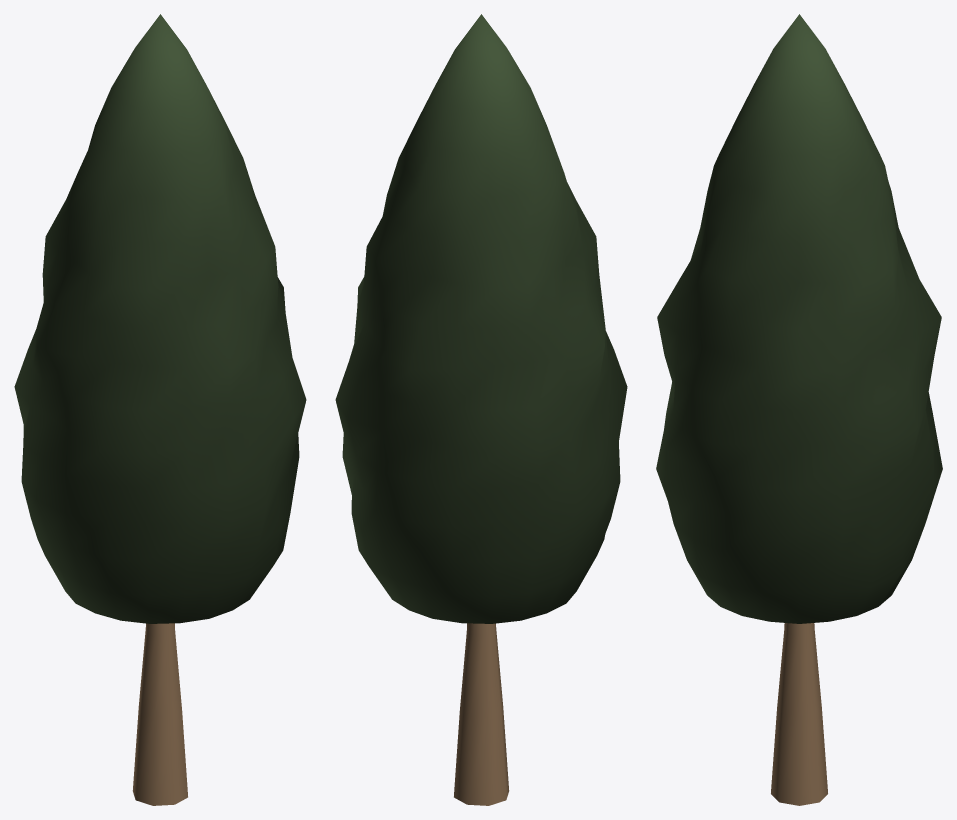
3 views of the same model, side by side, from view 1: azimuth 30°, elevation 25°; view 2: azimuth 150°, elevation 25°; view 3: azimuth 270°, elevation 25° (orthographic).
Visible parts, largest first — view 1: 462; view 2: 462; view 3: 462.
Boxes of the visible parts, <box> form: 462: <box>14,14,306,805</box>; 462: <box>335,14,627,805</box>; 462: <box>656,14,942,805</box>.
Bounding box in the file's own units: 3 × 9 × 3.
